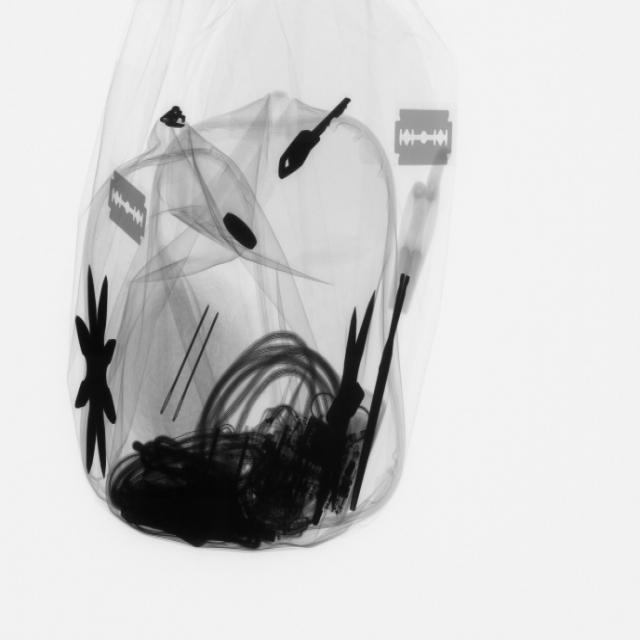BLADE: (384, 95, 463, 180), (102, 163, 152, 249)
SHURIKEN: (309, 287, 378, 519), (66, 264, 131, 490)
